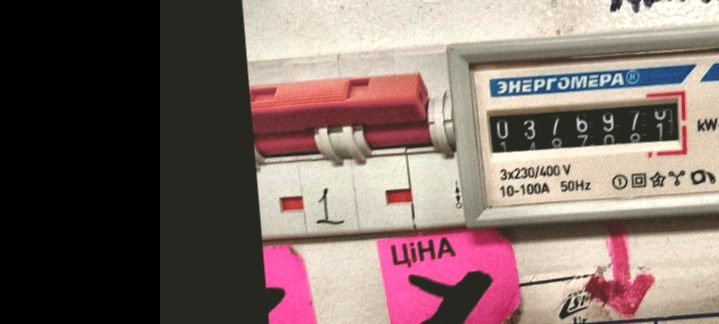0: (494, 117, 510, 140)
1: (653, 121, 667, 142)
3: (521, 118, 538, 141)
6: (573, 110, 590, 134)
7: (546, 113, 563, 137), (627, 108, 643, 132)
9: (599, 109, 616, 134)
screen: (477, 85, 693, 176)
